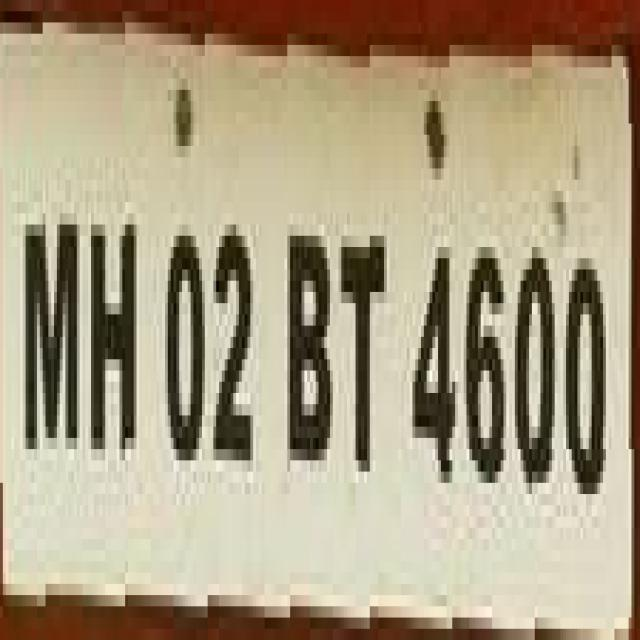license_plate: (20, 0, 640, 618)
